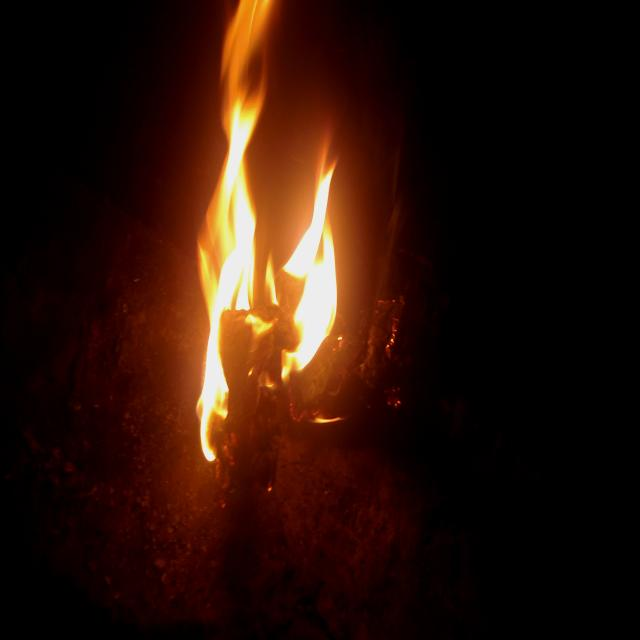firerotation: (193, 0, 339, 468)
